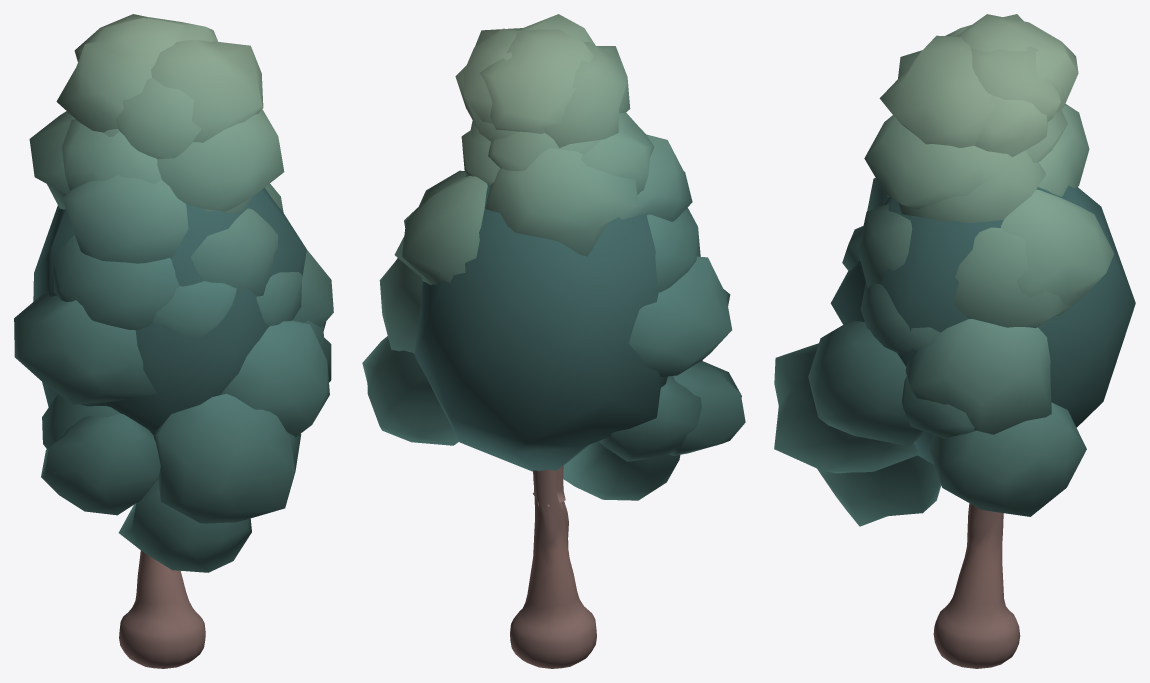
The model's file is a_yew.glb.
The picture shows the model from 3 angles, left to right: view 1: azimuth 30°, elevation 25°; view 2: azimuth 150°, elevation 25°; view 3: azimuth 270°, elevation 25°; orthographic projection.
Visible parts, largest first — view 1: near; view 2: near; view 3: near.
Boxes of the visible parts, box(x1,y1,x2,y2) form: near: box(14, 14, 333, 668); near: box(362, 14, 745, 668); near: box(774, 14, 1135, 668).
Bounding box in the file's own units: 5.88 × 10.55 × 5.45.
